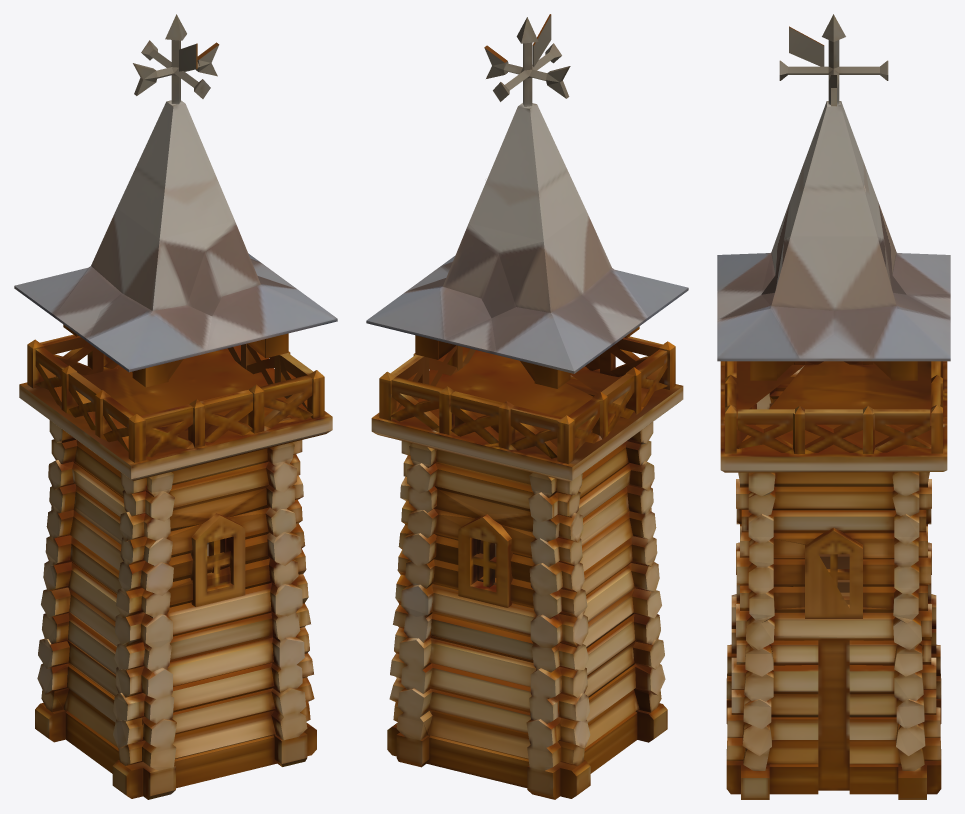
The model's file is wooden_tower.fbx.
The picture shows the model from 3 angles, left to right: view 1: azimuth 30°, elevation 25°; view 2: azimuth 150°, elevation 25°; view 3: azimuth 270°, elevation 25°; orthographic projection. The views are drawn at different scales.
Visible parts, largest first — view 1: texture_pbr_v128; view 2: texture_pbr_v128; view 3: texture_pbr_v128.
Boxes of the visible parts, x1,y1,x2,y2 form: texture_pbr_v128: (14,14,337,799); texture_pbr_v128: (366,14,688,799); texture_pbr_v128: (717,14,950,799).
Size of the model in its own units: 56.82 by 190 by 54.09.
1 material, 1 textured.
